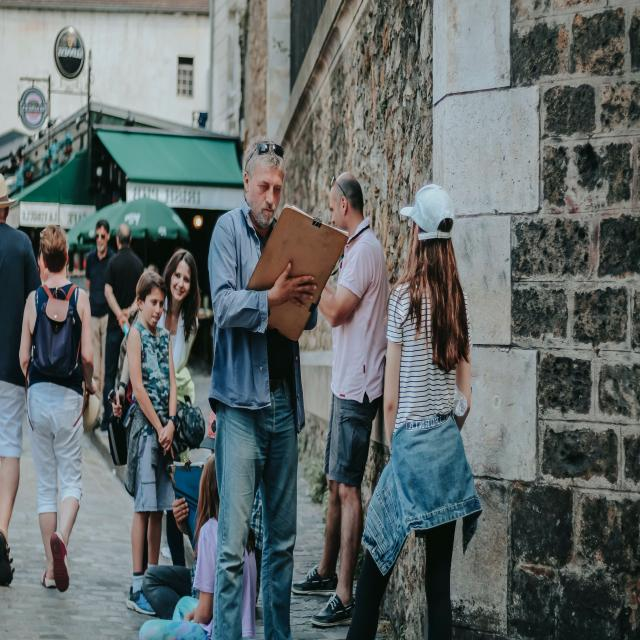adult: (350, 185, 473, 640), (214, 134, 315, 640), (291, 169, 387, 627), (19, 228, 92, 588), (116, 246, 199, 463), (84, 218, 115, 405)
child: (120, 267, 181, 611)
